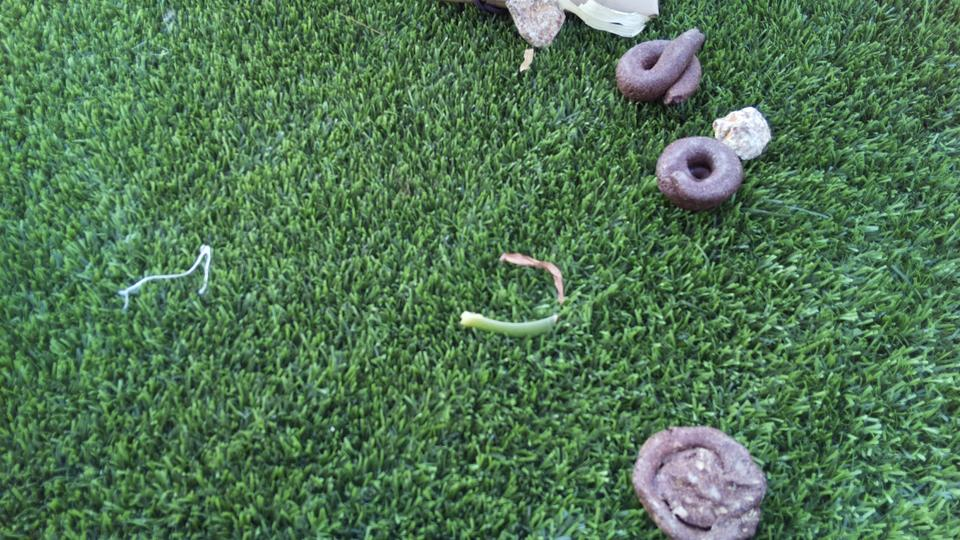poop: (629, 418, 769, 540), (611, 23, 717, 108), (652, 133, 748, 211)
